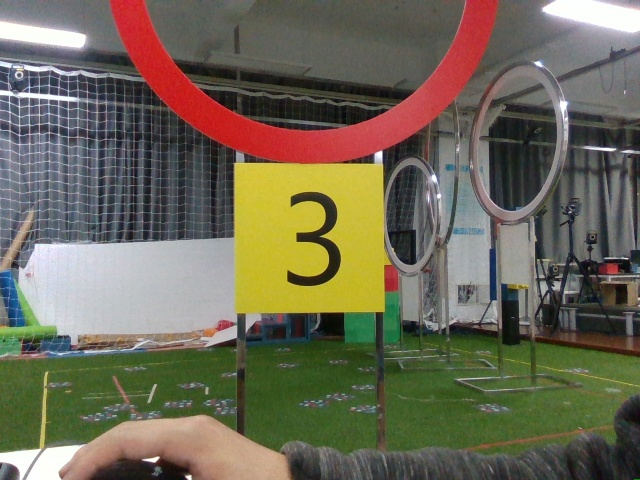target: (237, 165, 381, 310)
